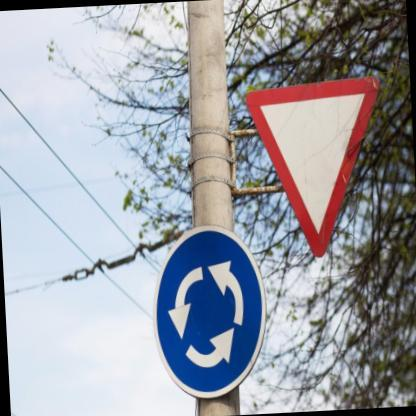road_sign: (245, 77, 379, 258), (154, 226, 267, 401)
